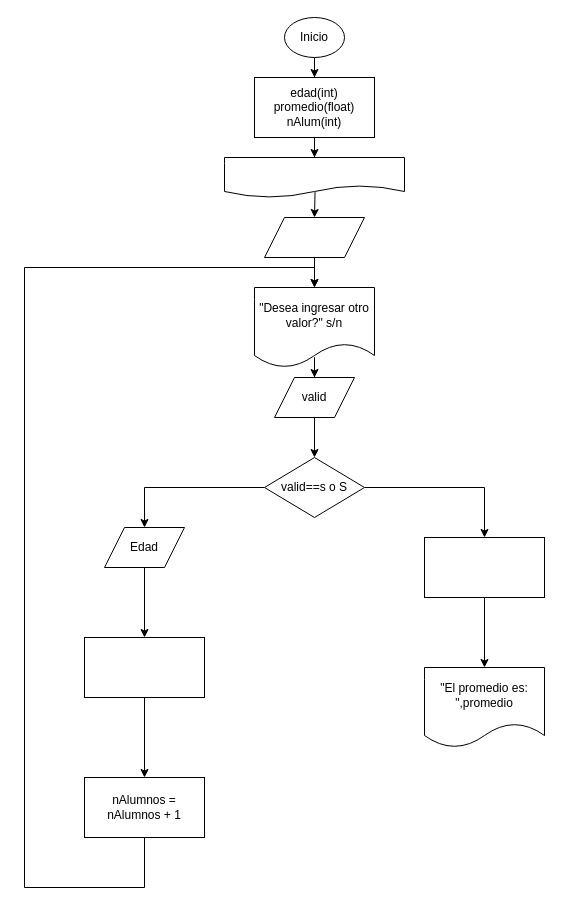
The diagram is 562 pixels wide and 913 high, and some of its shapes have lost their labels. Each missing label, with the centre of its shape:
"Ingrese edad de alumno": pixel 314 177
promedio: pixel 314 237
promedio = promedio +edad: pixel 144 667
promedio = promedio / nAlumnos: pixel 484 567
